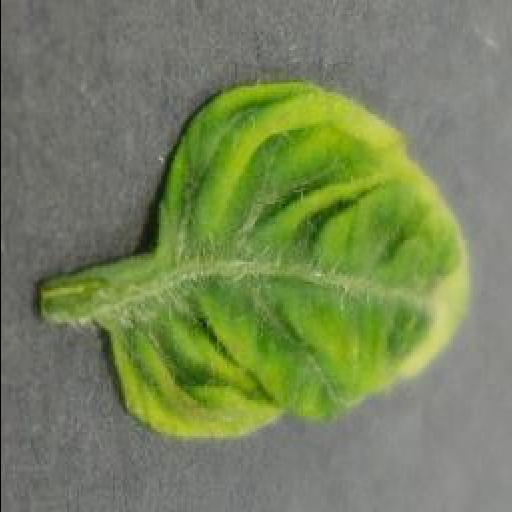disease_tomato: (100, 78, 470, 440)
